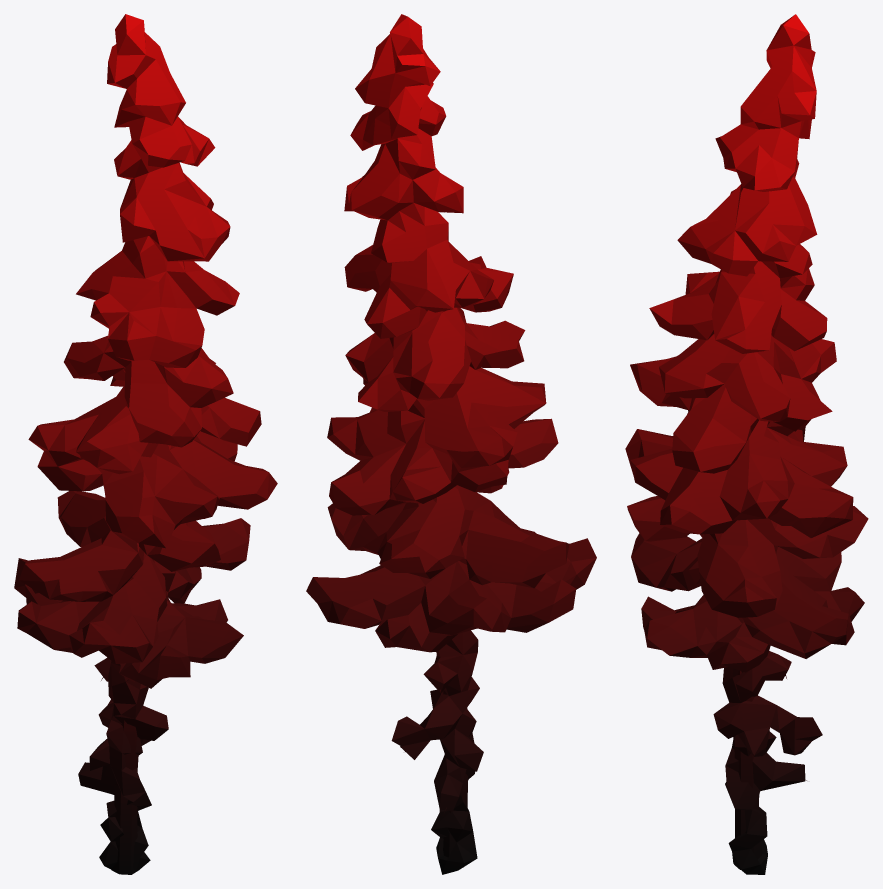
Rendered from TreeSpruceTall01_Snow.fbx.
3 renders of one model, left to right at view 1: azimuth 30°, elevation 25°; view 2: azimuth 150°, elevation 25°; view 3: azimuth 270°, elevation 25°, orthographic. The views are drawn at different scales.
Visible parts, largest first — view 1: TreeSpruceTall01_Snow_LOD0; view 2: TreeSpruceTall01_Snow_LOD0; view 3: TreeSpruceTall01_Snow_LOD0.
Boxes of the visible parts, bbox=[...] form: TreeSpruceTall01_Snow_LOD0: bbox=[14, 14, 277, 874]; TreeSpruceTall01_Snow_LOD0: bbox=[306, 14, 596, 874]; TreeSpruceTall01_Snow_LOD0: bbox=[625, 14, 868, 874].
Size of what is drawn, in the model's own units: 270 by 915 by 232.
